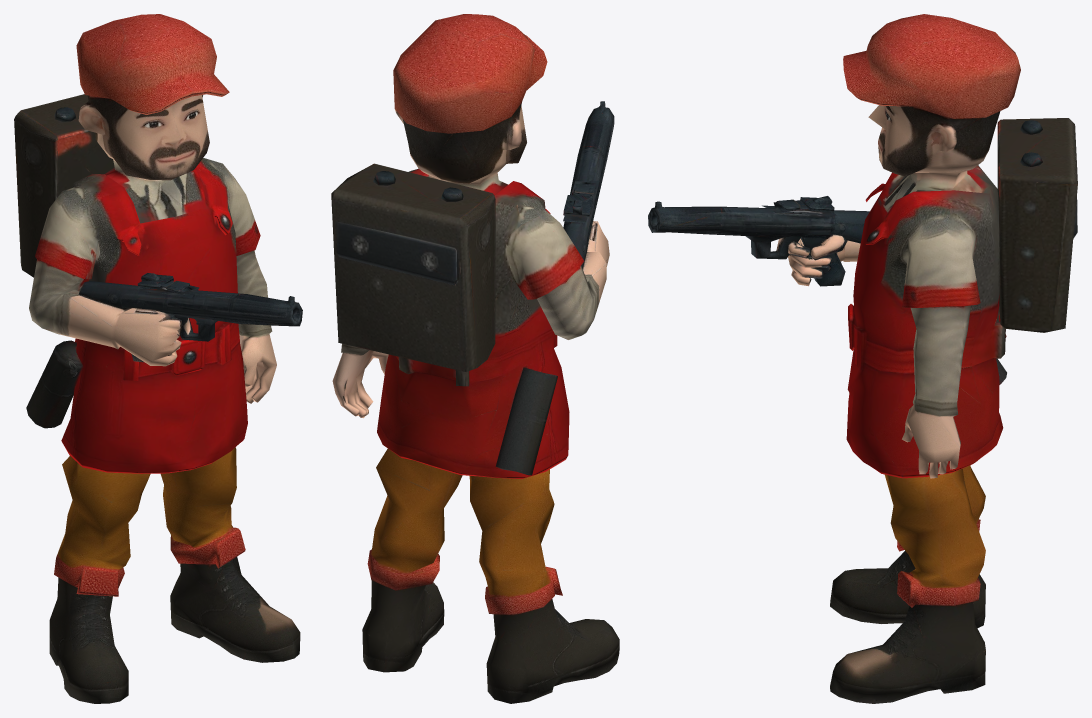
The model's file is rival-hills.glb.
3 views of the same model, side by side, from view 1: azimuth 30°, elevation 25°; view 2: azimuth 150°, elevation 25°; view 3: azimuth 270°, elevation 25° (orthographic). The views are drawn at different scales.
Bounding box in the file's own units: 0.3819 × 0.9521 × 0.5909.
1 material, 1 textured.
